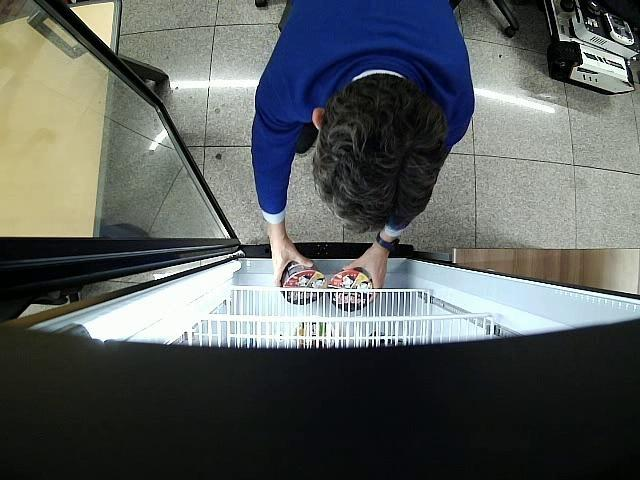07_buldak_L: (328, 268, 374, 312), (280, 262, 326, 304)
